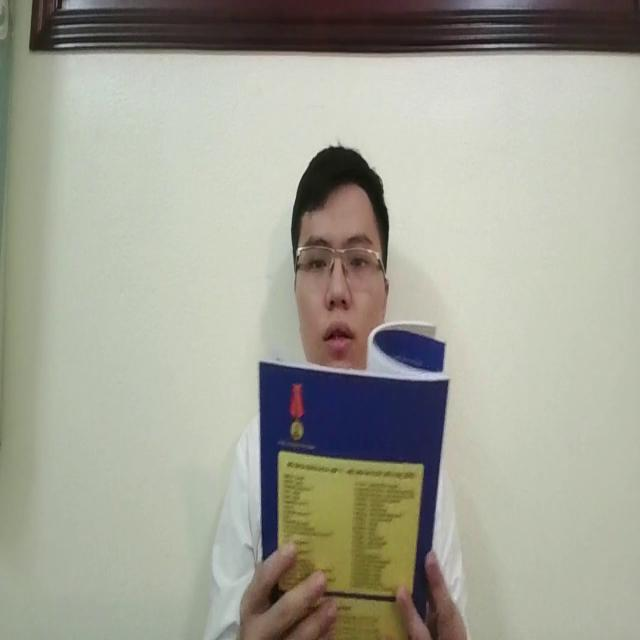book: (251, 314, 449, 636)
student: (283, 139, 396, 364)
